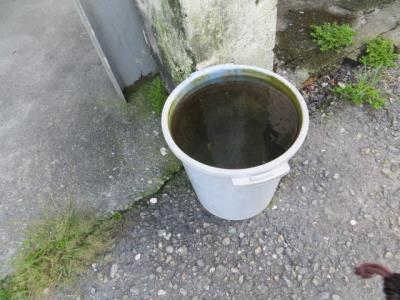bucket: (162, 63, 310, 221)
